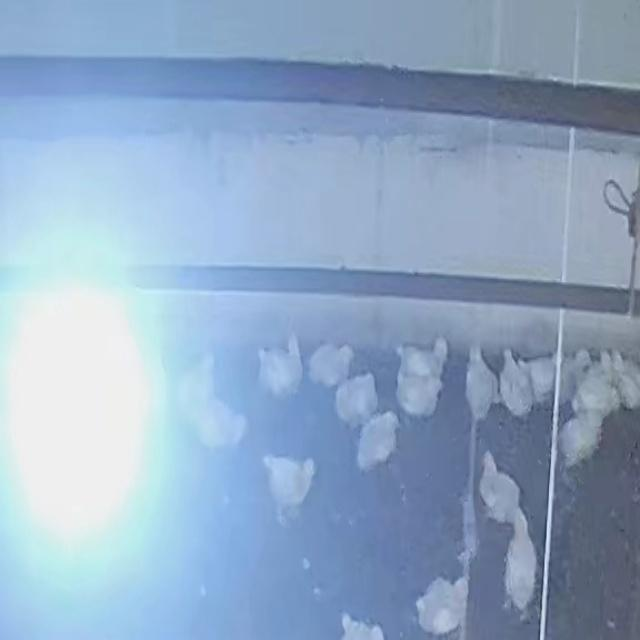chicken: (178, 353, 246, 451), (394, 337, 448, 417), (503, 508, 539, 614), (477, 448, 522, 525), (413, 575, 467, 636), (256, 335, 305, 399), (558, 406, 605, 468), (355, 412, 401, 474), (333, 372, 379, 428), (465, 345, 498, 422), (265, 457, 314, 508), (498, 348, 533, 418), (308, 343, 355, 386), (558, 349, 594, 400), (572, 381, 622, 415), (528, 353, 561, 398), (339, 613, 386, 640)
